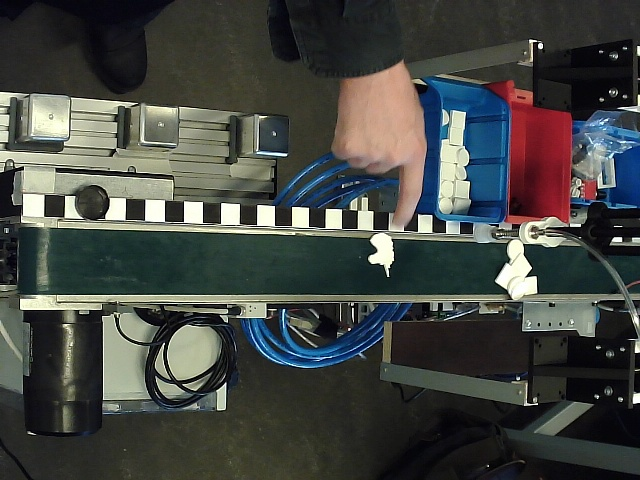unicorn: (367, 231, 396, 278)
